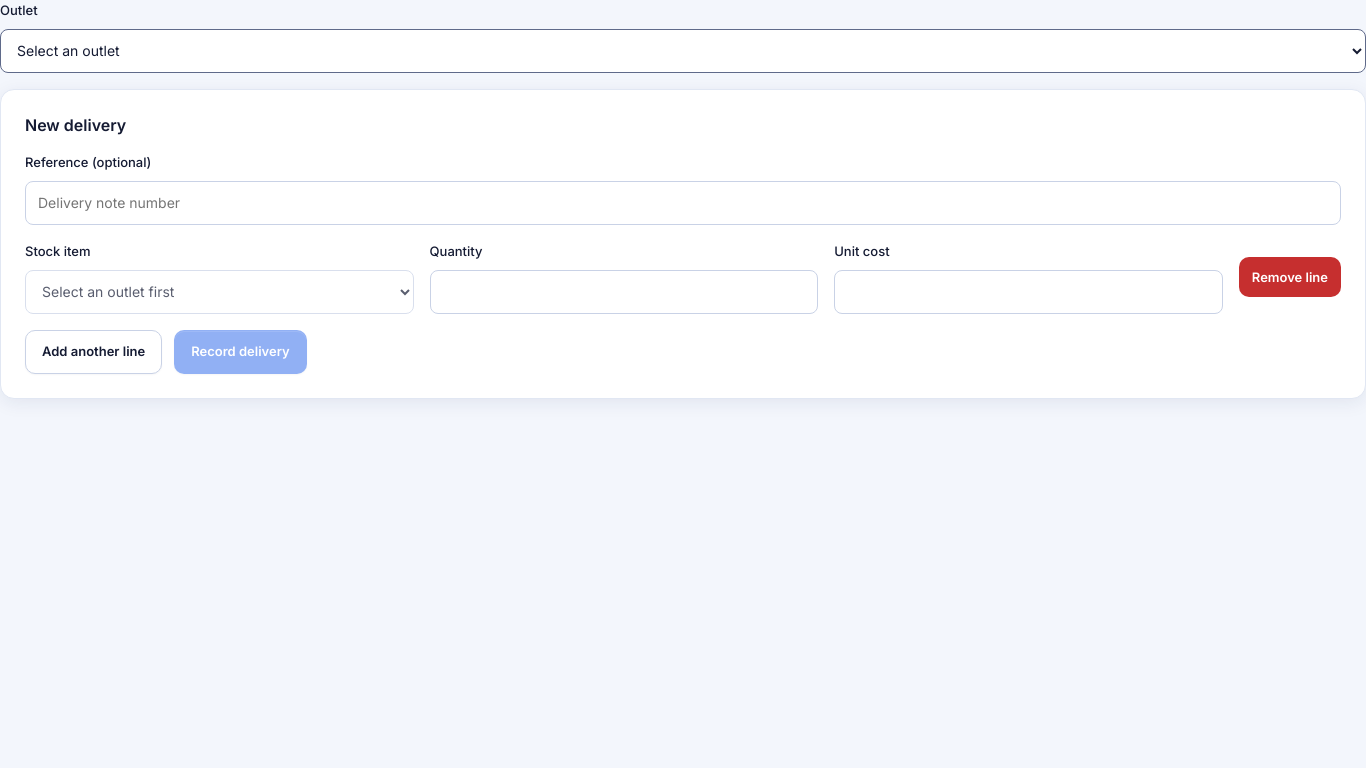
Test: <StockGoodsReceivedTab> › bug fix: renders the active property's real currency, not a hardcoded NGN
This screenshot has width=1366, height=768.
Select "Main Bar" in the dropdown labelled "Outlet" at (683, 51), box [0,29,1365,73]
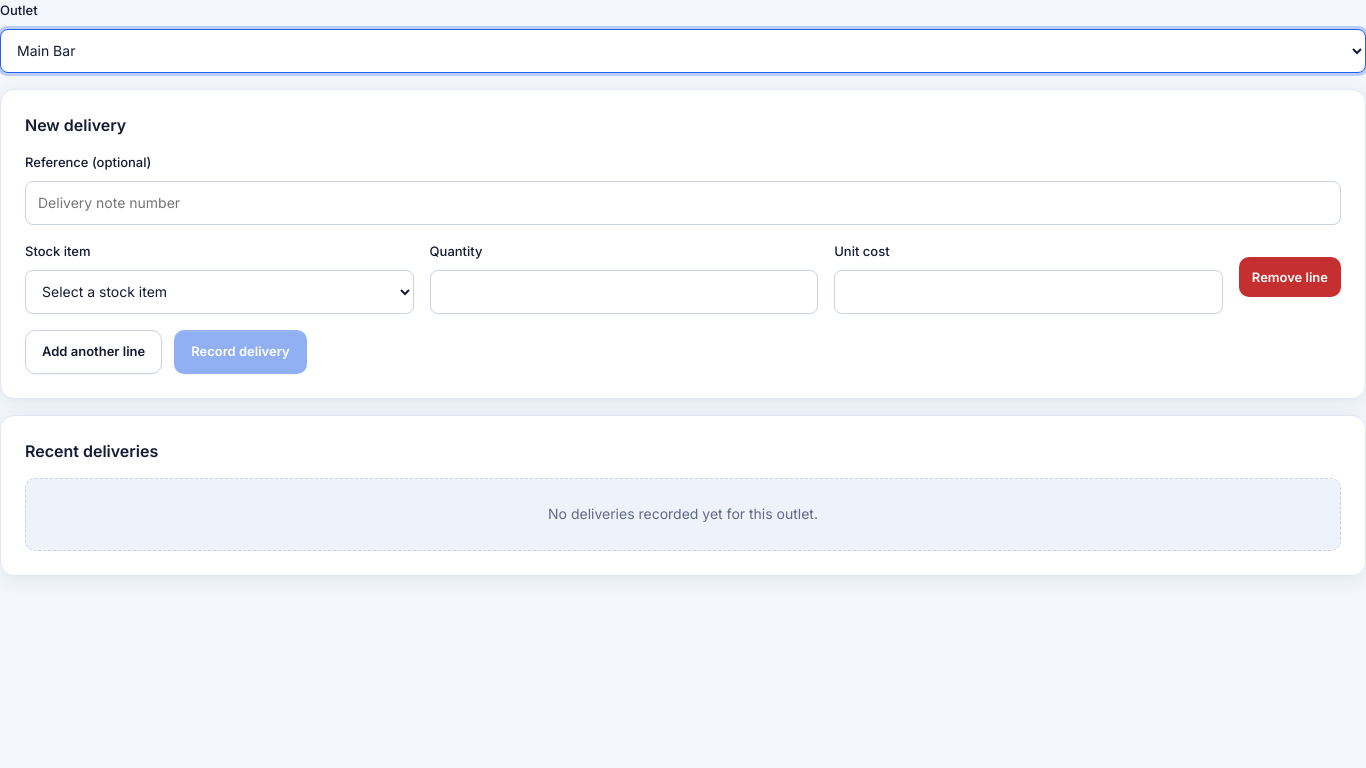
Select "Vodka (ml)" in the dropdown labelled "Stock item" at (219, 292), box [25,270,414,314]
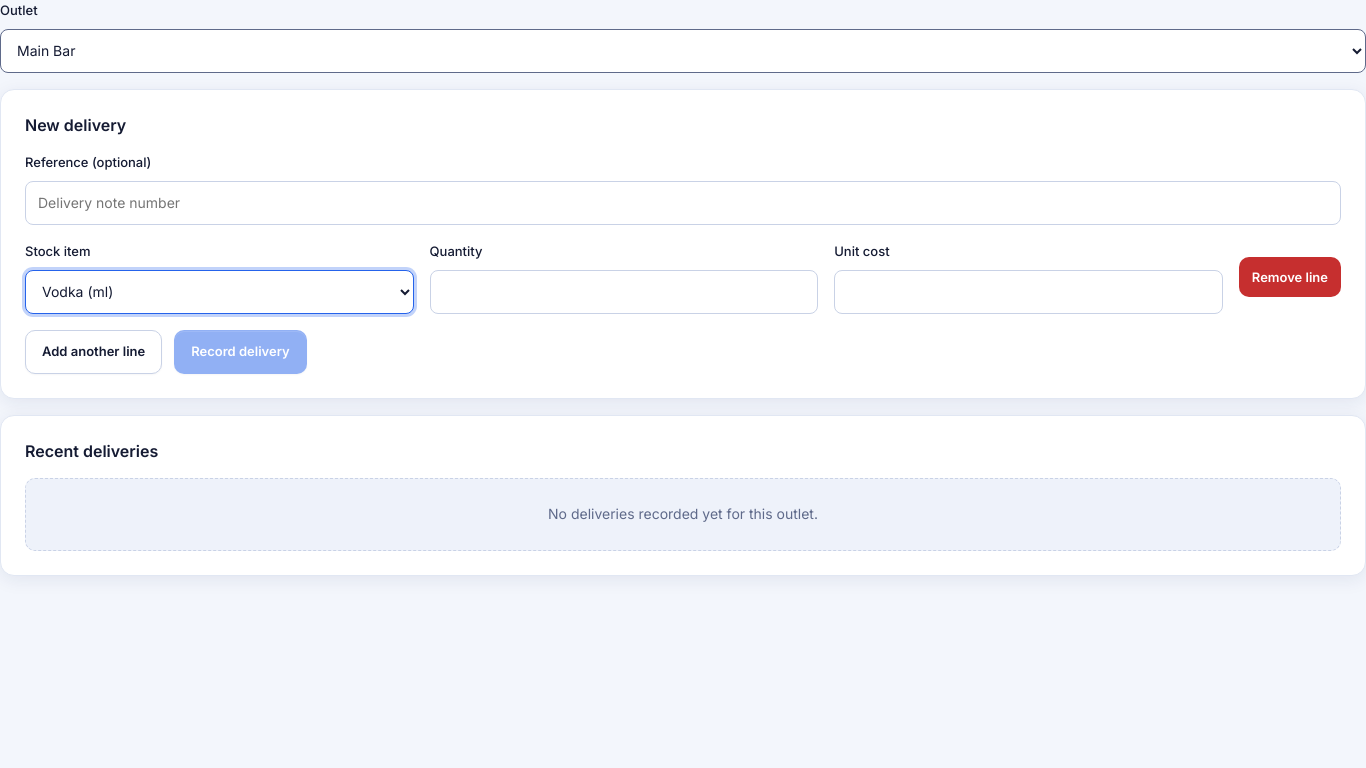
Type "10" into the number field labelled "Quantity" at (624, 292), box [430,270,818,314]
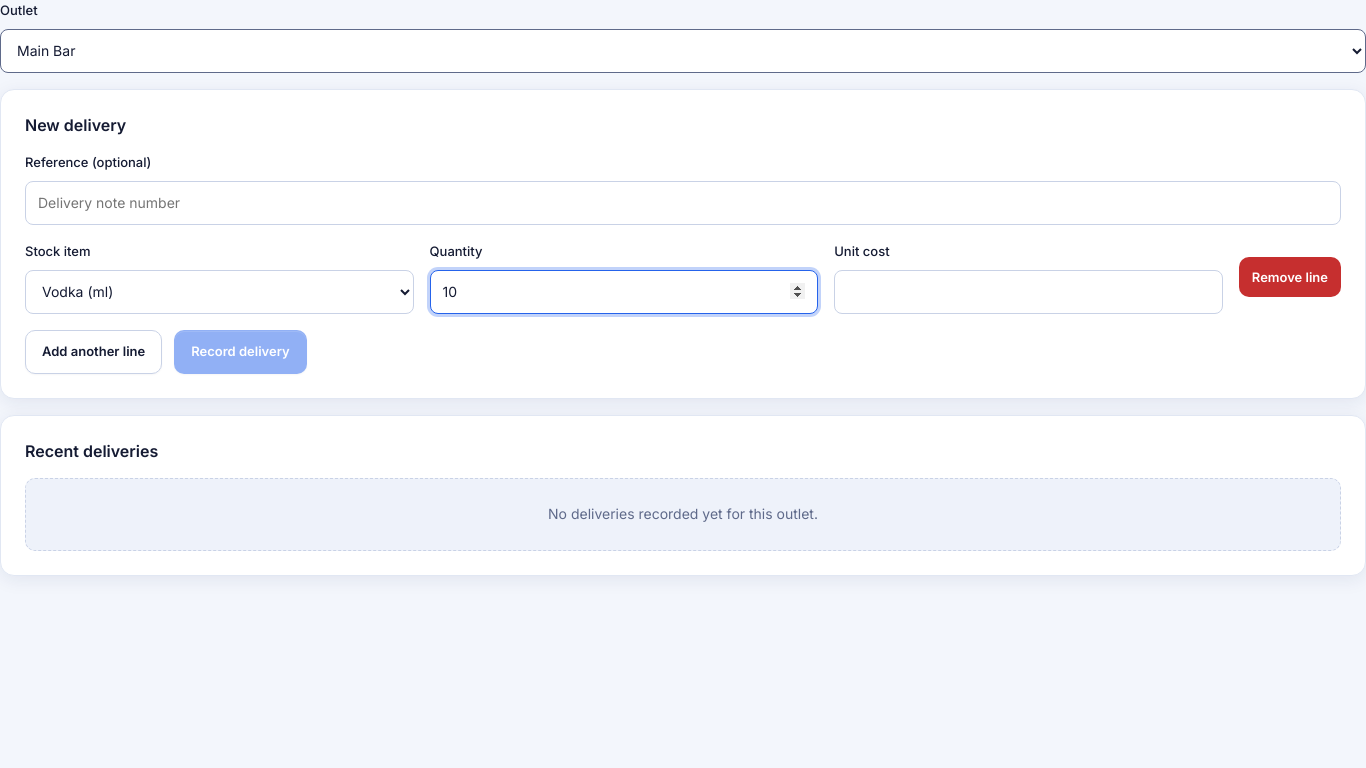
Type "6.50" into the number field labelled "Unit cost" at (1028, 292), box [834,270,1223,314]
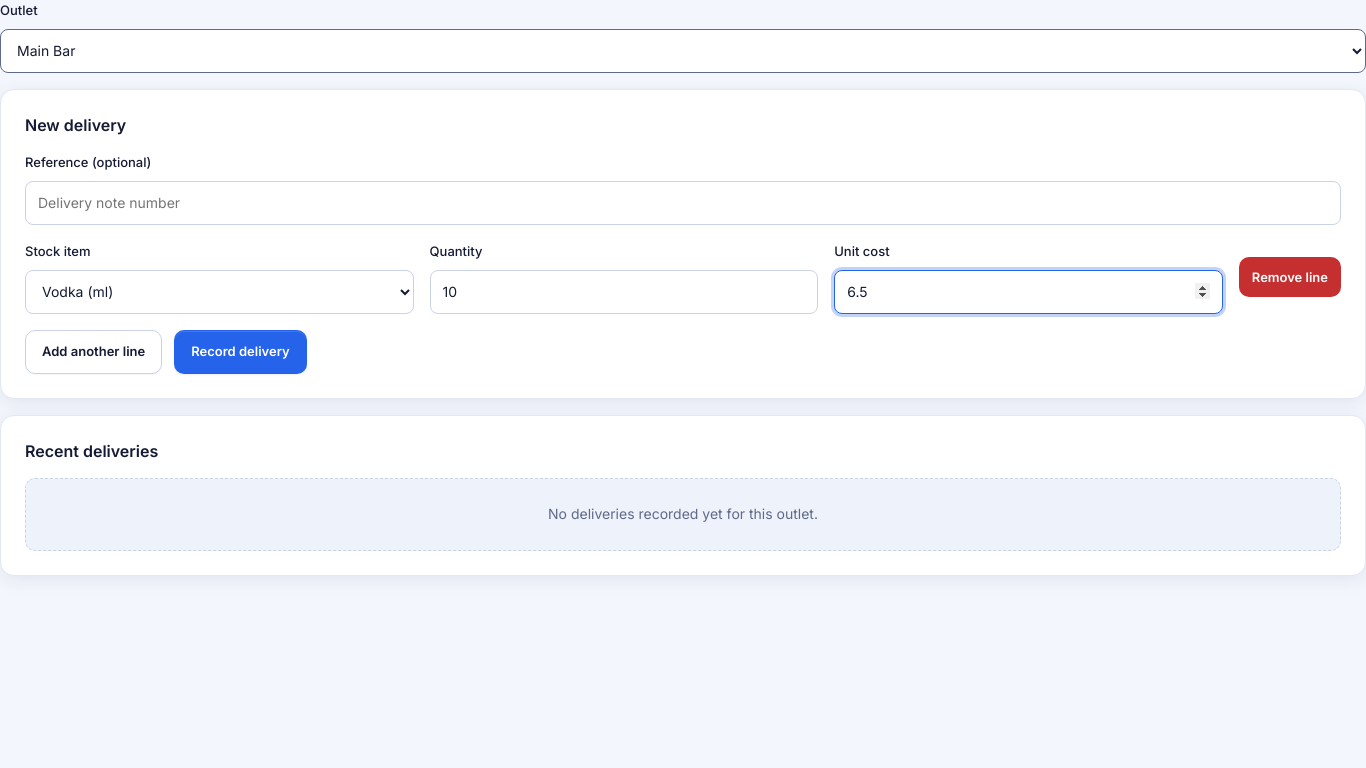
Click the button "Record delivery" at (241, 352), box [174,330,307,374]
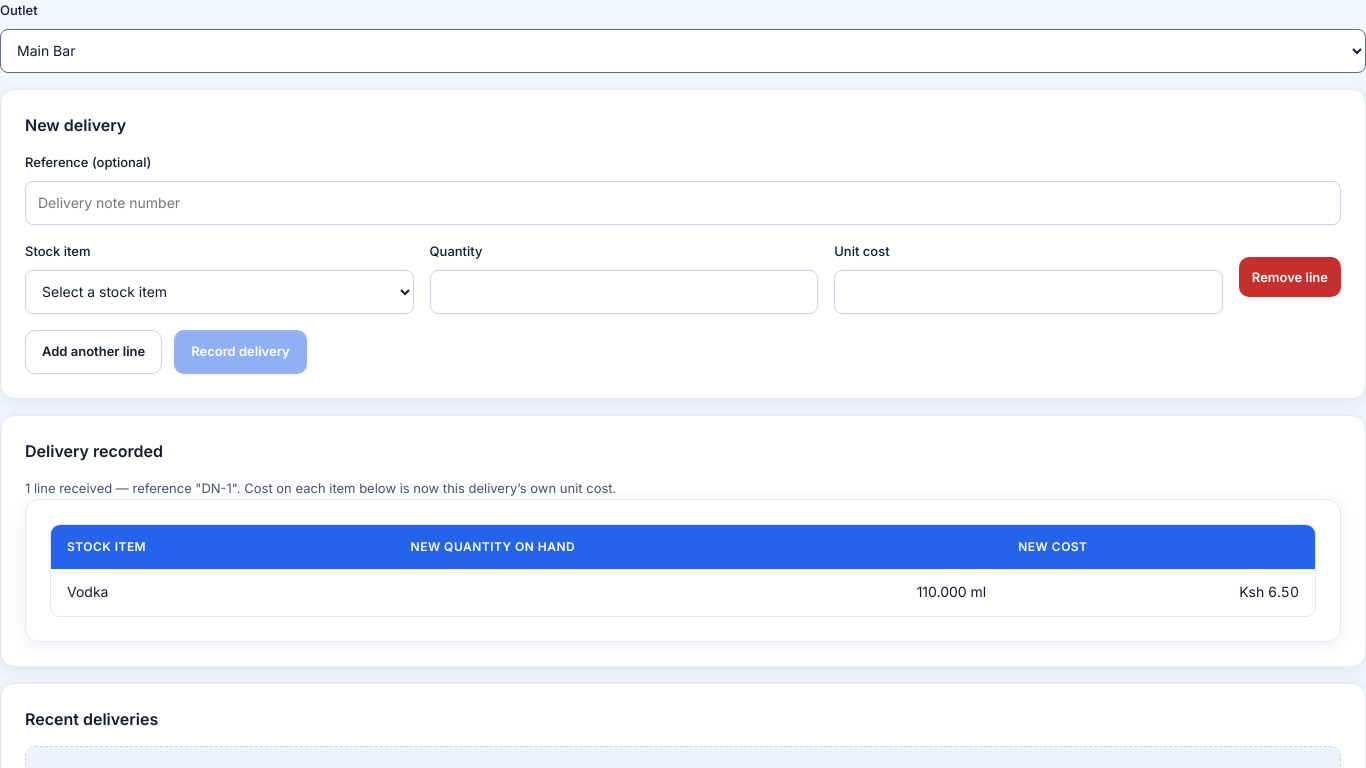
Result: the text "Ksh 6.50" is shown at [1239,583,1299,600]
